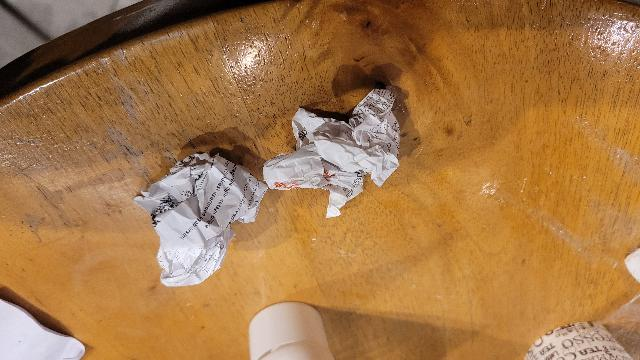Kagit: (264, 89, 401, 220), (133, 152, 266, 286)
